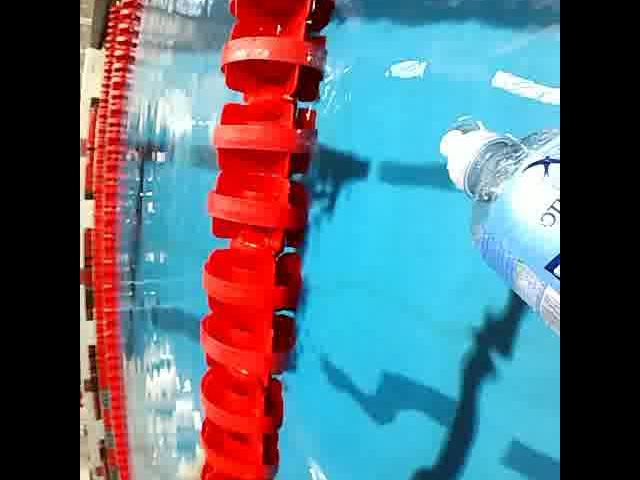Bottle: (434, 101, 560, 346)
